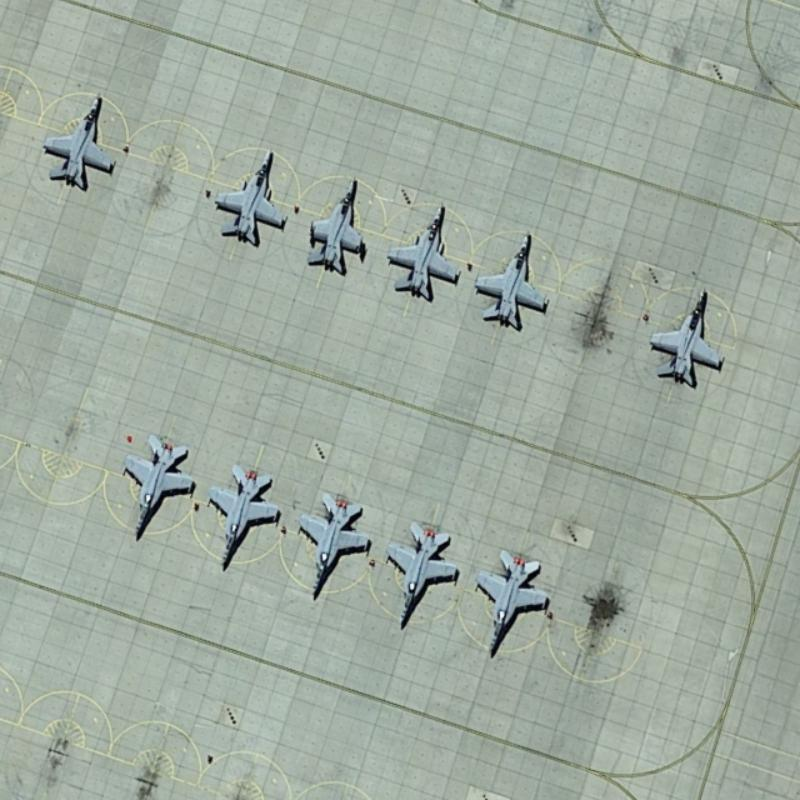A16: (470, 539, 553, 667), (201, 451, 284, 578), (381, 513, 463, 638), (117, 426, 198, 549), (641, 282, 729, 394), (295, 483, 376, 604), (382, 190, 463, 308), (471, 224, 553, 336), (36, 85, 118, 195), (207, 145, 290, 250), (298, 171, 369, 282)
